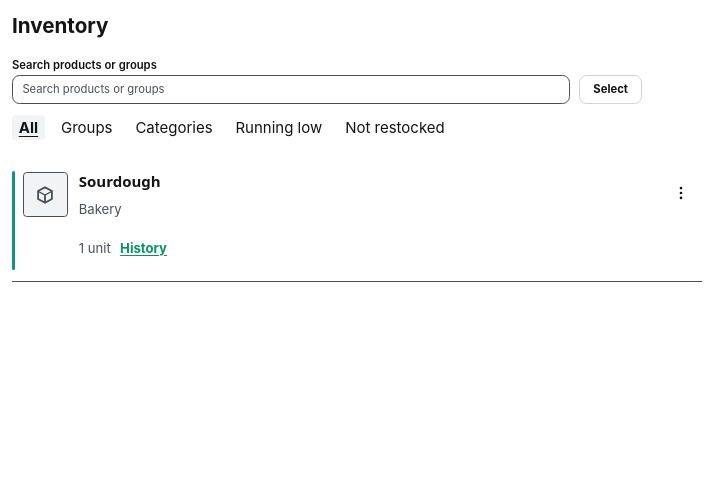
Scenario: InventoryPage › fetches instances only after an item is selected
Expected: the heading "Sourdough" is shown, [79, 171, 161, 191]
Click the button named "Actions for Sourdough" at (681, 193), box [661, 172, 702, 213]
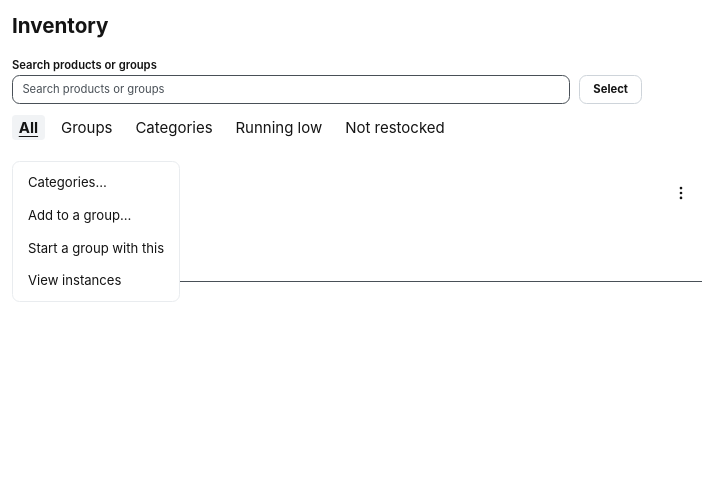
Click the menu item "View instances" at (96, 281), box [17, 264, 175, 297]
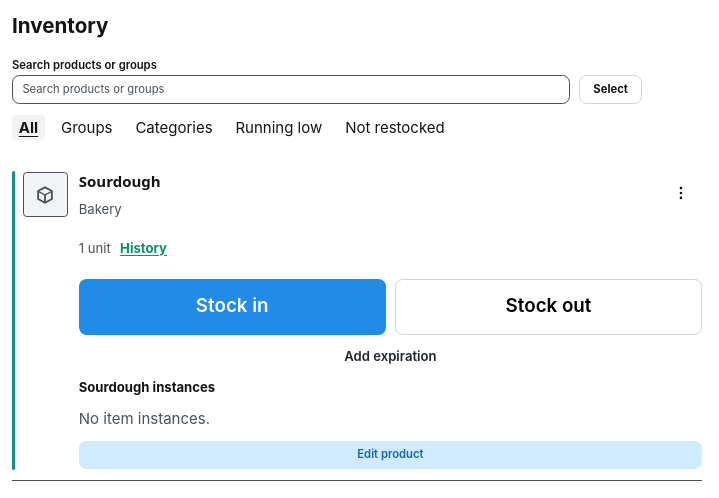
Result: the heading "Sourdough instances" is shown at [79, 379, 215, 395]
